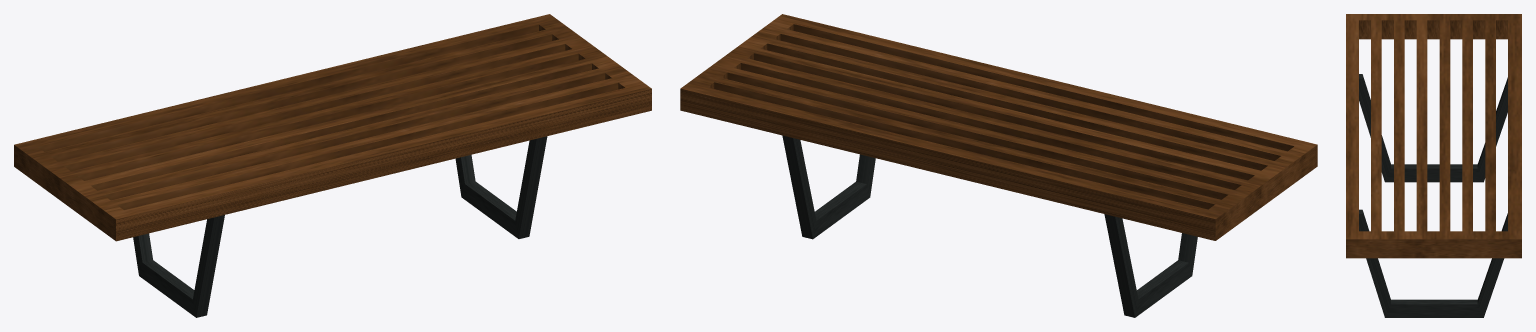
The model's file is banco.glb.
3 views of the same model, side by side, from view 1: azimuth 30°, elevation 25°; view 2: azimuth 150°, elevation 25°; view 3: azimuth 270°, elevation 25° (orthographic). The views are drawn at different scales.
Visible parts, largest first — view 1: banco; view 2: banco; view 3: banco.
Boxes of the visible parts, x1=… form: banco: x1=14, y1=14, x2=651, y2=317; banco: x1=680, y1=14, x2=1317, y2=317; banco: x1=1346, y1=14, x2=1521, y2=317.
Size of the model in its own units: 2.33 by 0.5816 by 0.7676.
Materials: 2 (2 with a texture image).
